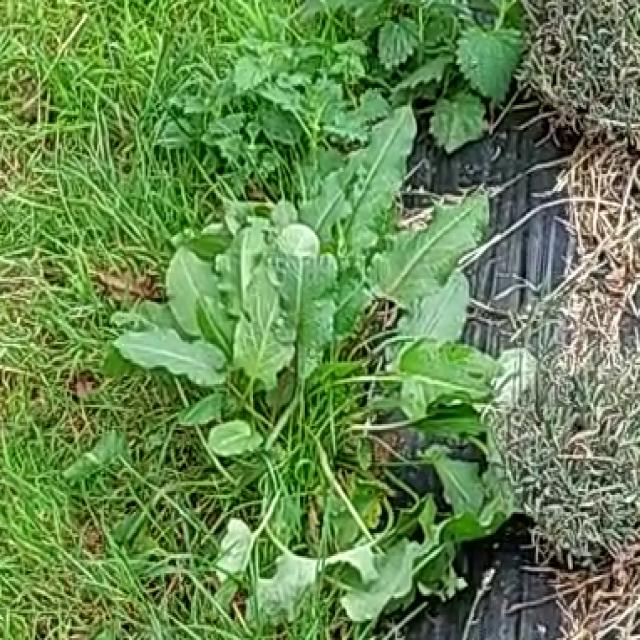organic waste: (104, 117, 549, 598)
